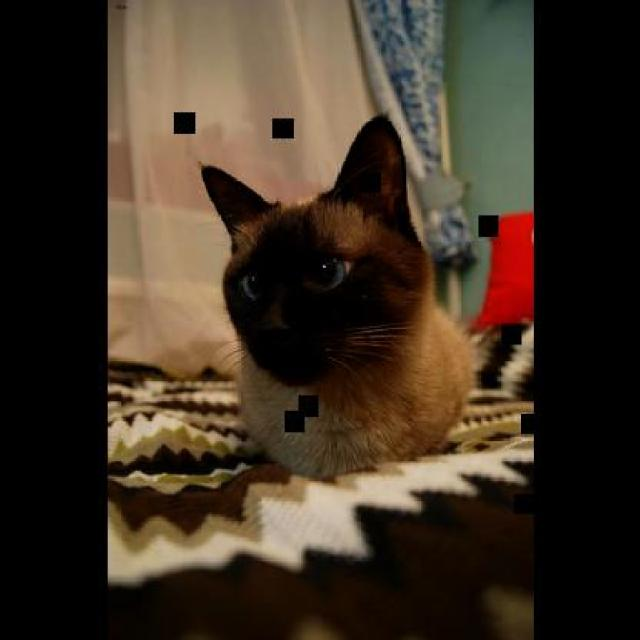unauthorized: (195, 111, 532, 478)
